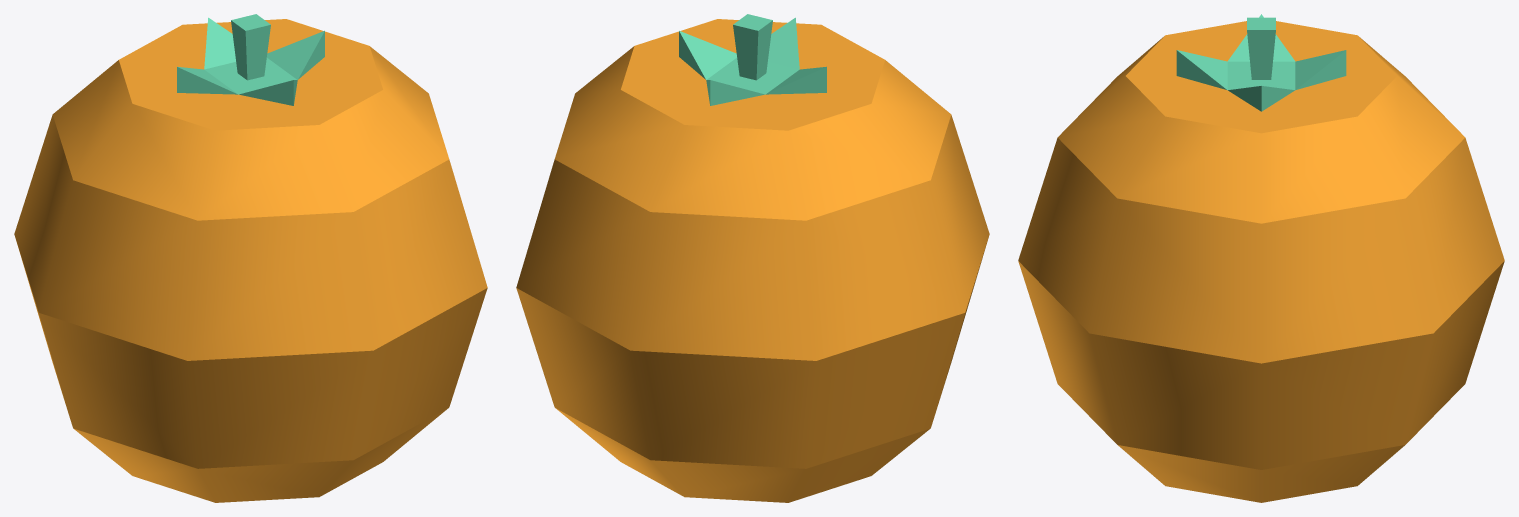
File: Orange.glb
3 renders of one model, left to right at view 1: azimuth 30°, elevation 25°; view 2: azimuth 150°, elevation 25°; view 3: azimuth 270°, elevation 25°, orthographic.
Parts seen in each view (by area): view 1: orange; view 2: orange; view 3: orange.
Boxes of the visible parts, x1=… form: orange: x1=14, y1=14, x2=487, y2=502; orange: x1=516, y1=14, x2=989, y2=502; orange: x1=1018, y1=14, x2=1504, y2=502.
Size of the model in its own units: 0.1697 by 0.1622 by 0.1697.
